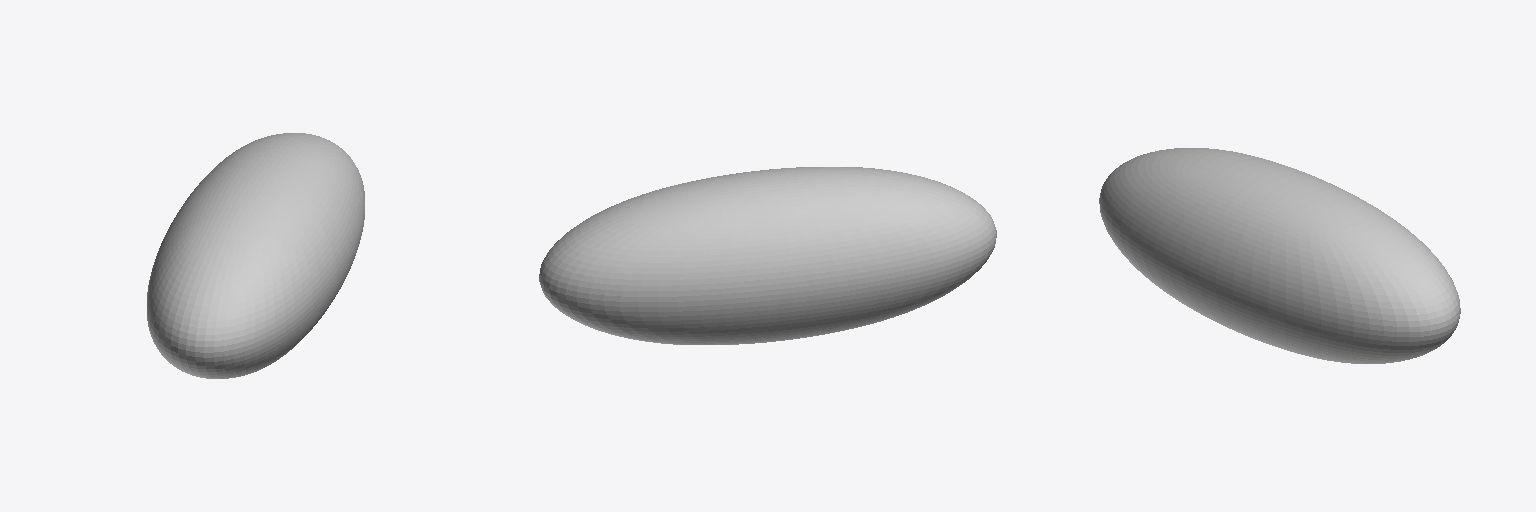
File: nudo4-2.obj
The picture shows the model from 3 angles: view 1: azimuth 30°, elevation 25°; view 2: azimuth 150°, elevation 25°; view 3: azimuth 270°, elevation 25°; orthographic projection.
Parts seen in each view (by area): view 1: nudo4_2_Mesh; view 2: nudo4_2_Mesh; view 3: nudo4_2_Mesh.
Part boxes in pixels (x1,y1,x2,y2): nudo4_2_Mesh: (147, 133, 364, 378); nudo4_2_Mesh: (539, 167, 996, 344); nudo4_2_Mesh: (1099, 148, 1460, 363).
Bounding box in the file's own units: 0.8203 × 0.3825 × 0.8203.